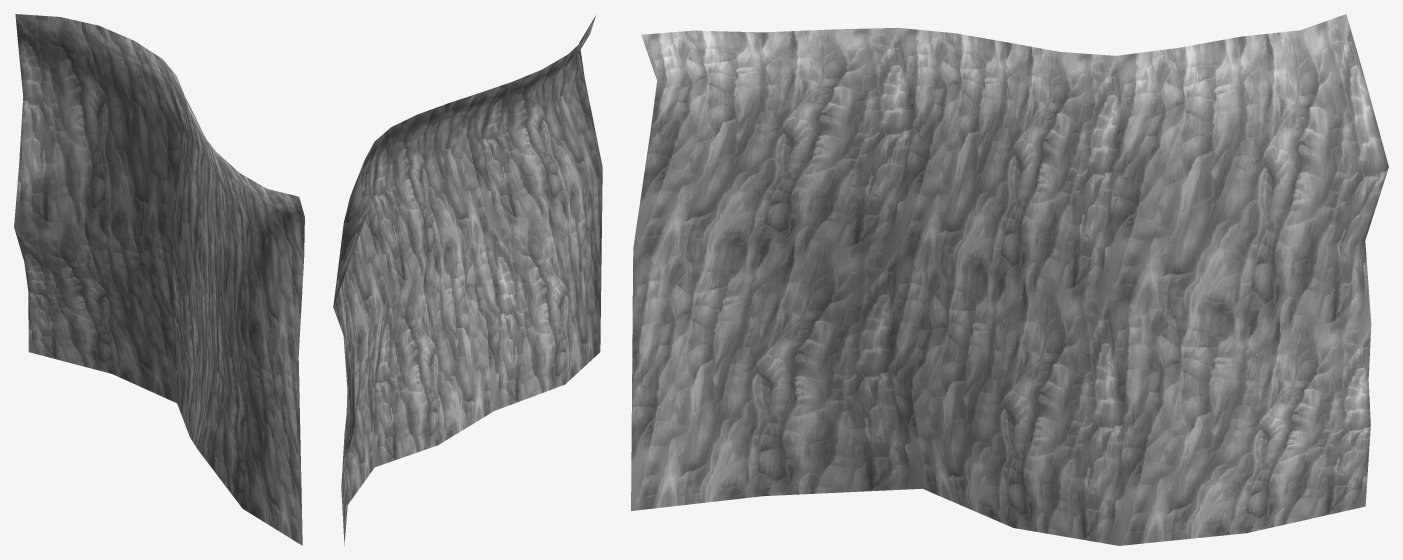
The model's file is SWORDLIGHT20_PS-AREA03_72.fbx.
3 views of the same model, side by side, from view 1: azimuth 30°, elevation 25°; view 2: azimuth 150°, elevation 25°; view 3: azimuth 270°, elevation 25° (orthographic). The views are drawn at different scales.
Parts seen in each view (by area): view 1: SWORDLIGHT20_PS-AREA03_72; view 2: SWORDLIGHT20_PS-AREA03_72; view 3: SWORDLIGHT20_PS-AREA03_72.
Boxes of the visible parts, left/top/right/bottom form: SWORDLIGHT20_PS-AREA03_72: left=14, top=14, right=304, bottom=545; SWORDLIGHT20_PS-AREA03_72: left=333, top=15, right=602, bottom=545; SWORDLIGHT20_PS-AREA03_72: left=631, top=14, right=1388, bottom=545.
Bounding box in the file's own units: 36735 × 149254 × 210768.
1 material, 1 textured.
